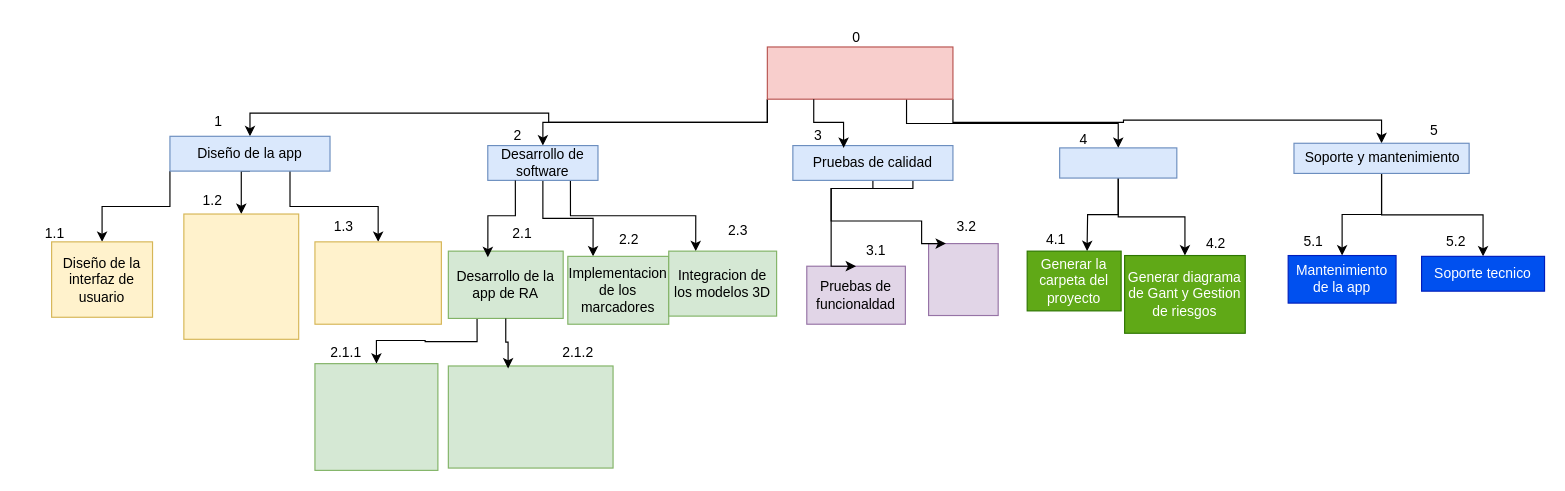
The diagram is 1565 pixels wide and 491 high, and some of its shapes have lost their labels. Each missing label, with the centre of its shape:
Busqueda y descarga de modelos de personajes: the point at 241,276
Diseño de los escenarios de Realidad aumetada: the point at 377,282
Documentacion: the point at 1117,162
Implementacion de bases de datos para el uso de multitarget: the point at 530,416
Instalacion de paquetes necesarios: the point at 376,416
Proyecto Simpsonizados: the point at 859,72
Solucion de problemas: the point at 962,279
